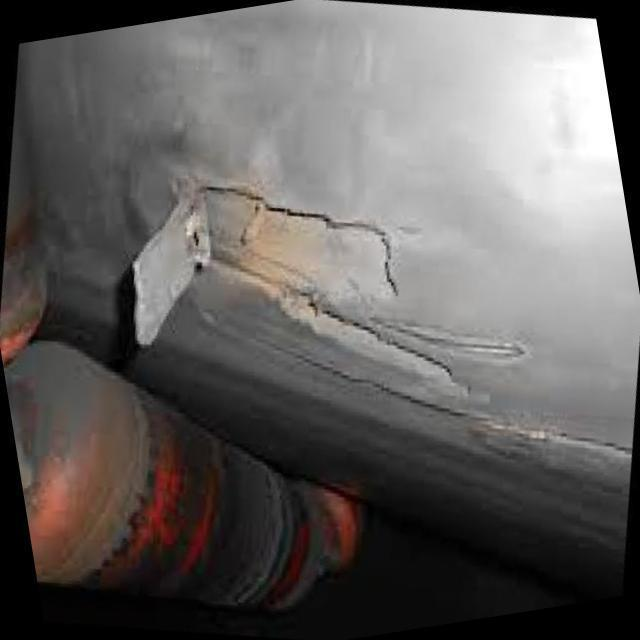Tear: (120, 168, 528, 390)
